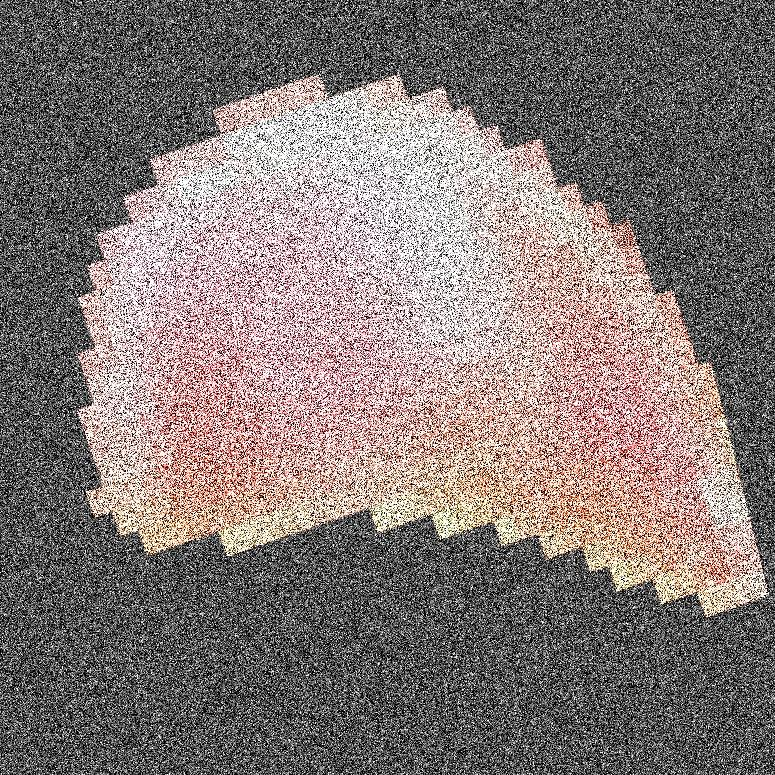Capacete: (333, 0, 774, 774)
